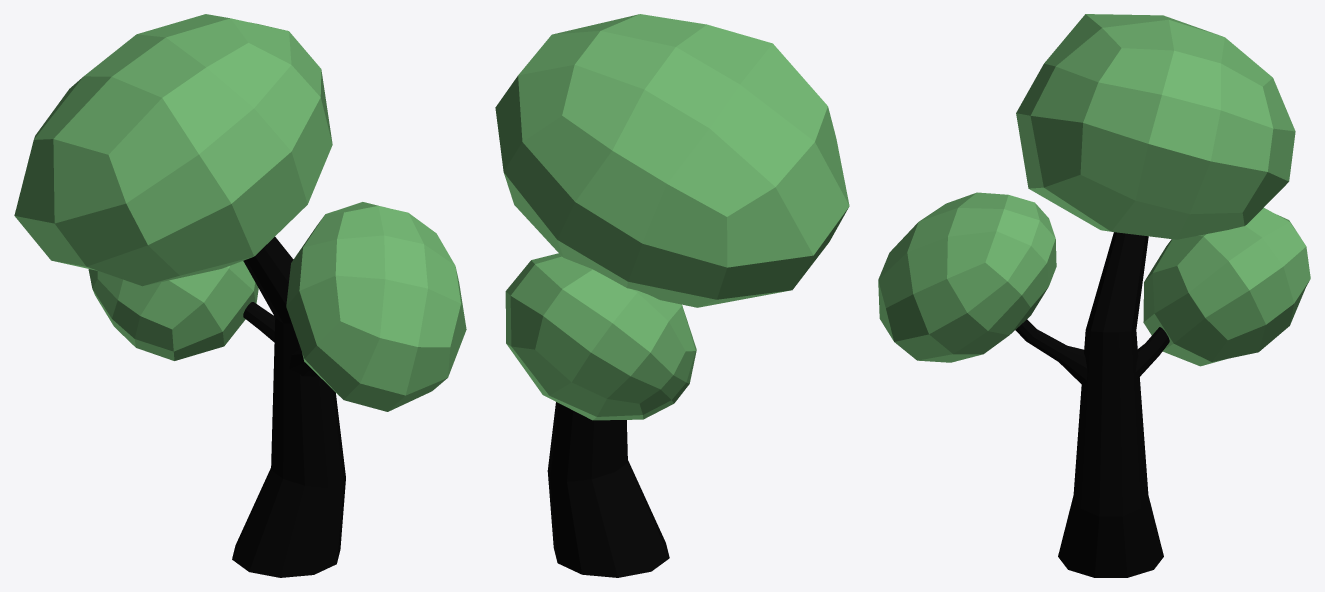
The model's file is Tree 1.fbx.
3 renders of one model, left to right at view 1: azimuth 30°, elevation 25°; view 2: azimuth 150°, elevation 25°; view 3: azimuth 270°, elevation 25°, orthographic. The views are drawn at different scales.
Visible parts, largest first — view 1: Roundcube.001; view 2: Roundcube.001; view 3: Roundcube.001.
Part boxes in pixels (bbox=[...]): Roundcube.001: bbox=[14, 14, 466, 577]; Roundcube.001: bbox=[495, 14, 849, 577]; Roundcube.001: bbox=[878, 14, 1310, 577].
Size of the model in its own units: 172 by 259 by 205.
